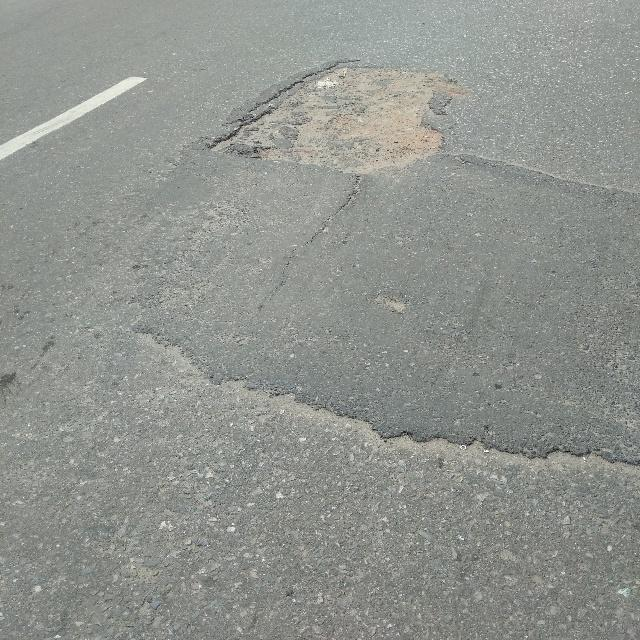Crack: (143, 302, 637, 530)
Pothole: (245, 68, 466, 197)
